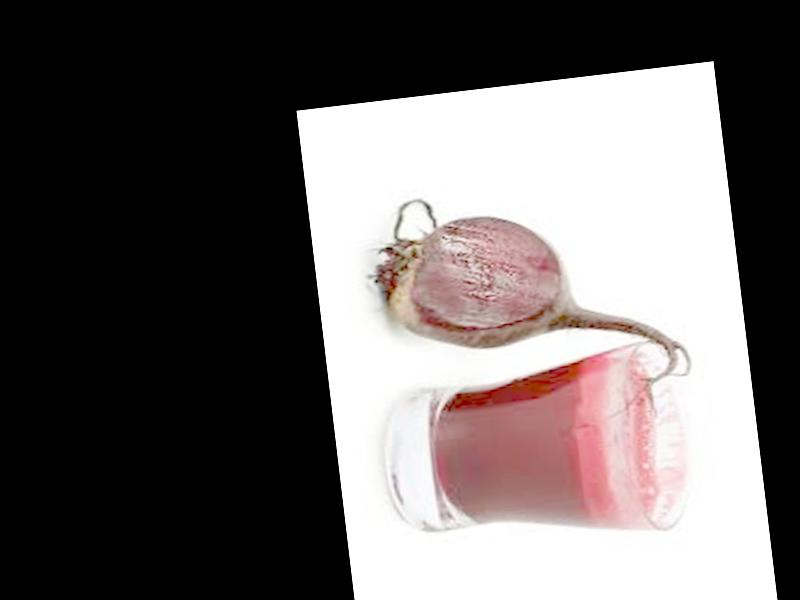Beet: (362, 170, 695, 439)
